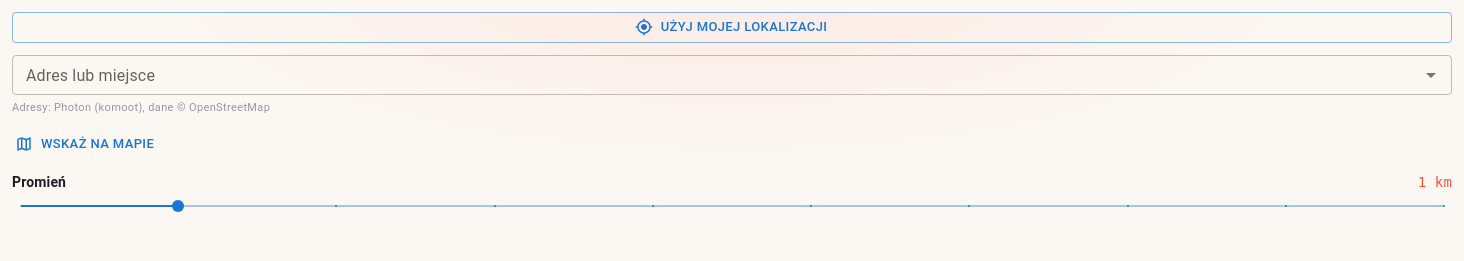
NearbyFilter › gives up on a device that never answers, and says so
Click the button "Użyj mojej lokalizacji" at point(732, 27), box [12, 12, 1452, 43]
Wait 60000 ms
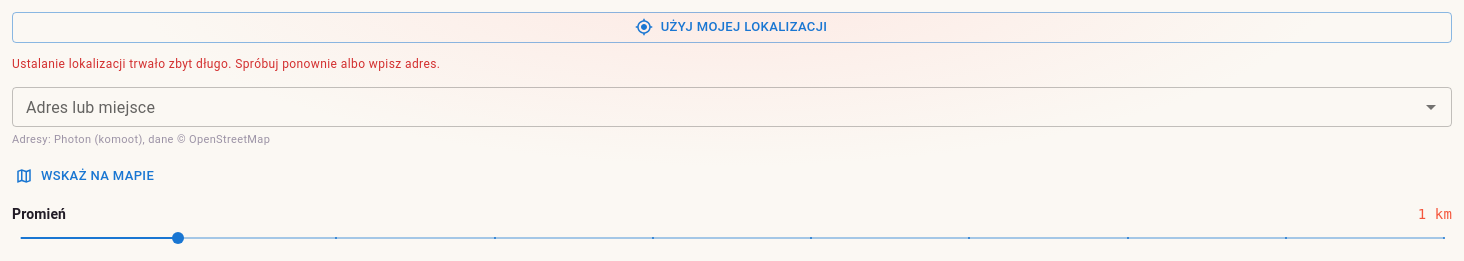
Now the message shows "Ustalanie lokalizacji trwało zbyt długo", box [12, 57, 440, 71]
